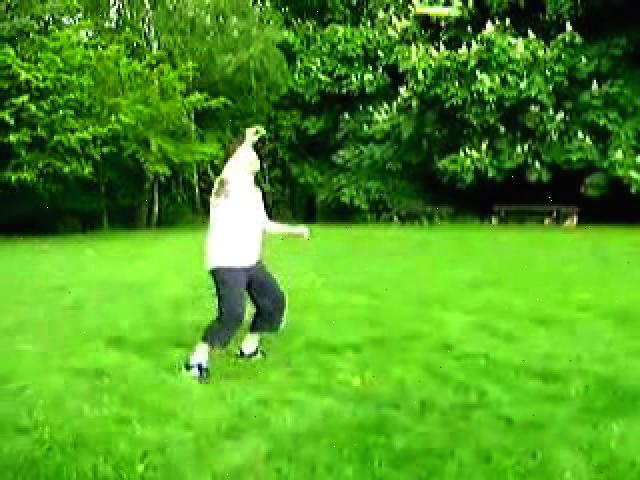T: (195, 107, 318, 379)
